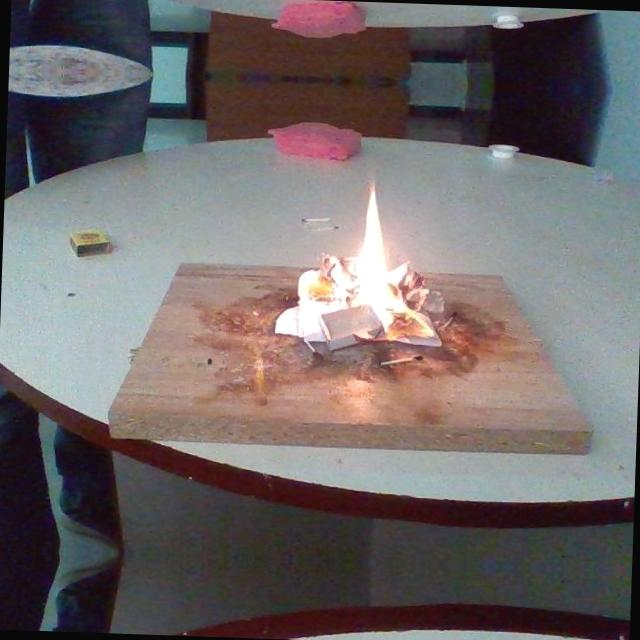fire: (270, 146, 442, 392)
